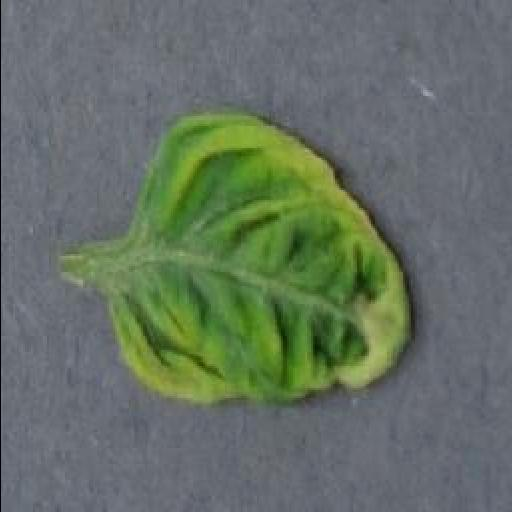disease_tomato: (106, 111, 408, 404)
